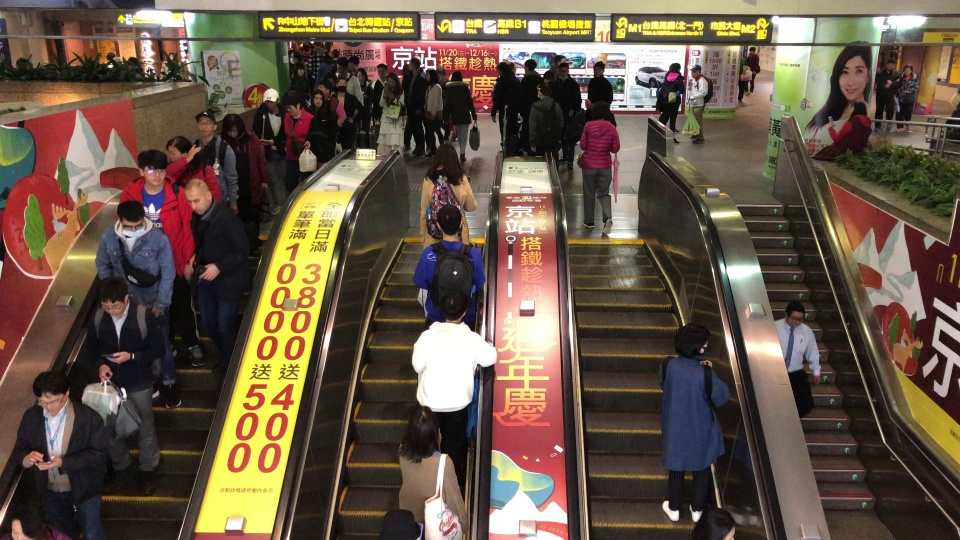person_head: (400, 406, 440, 456), (30, 369, 71, 417), (376, 504, 426, 540), (691, 506, 736, 539), (671, 321, 711, 358), (97, 274, 130, 316), (135, 148, 167, 187), (115, 199, 146, 236), (183, 177, 212, 214), (439, 289, 468, 326), (434, 204, 463, 237), (165, 135, 192, 164), (433, 142, 461, 166), (221, 111, 245, 137), (783, 299, 806, 326), (280, 90, 303, 116), (194, 110, 217, 136), (591, 100, 611, 121), (263, 87, 280, 110), (849, 101, 866, 117), (310, 89, 325, 107), (317, 80, 332, 97), (336, 56, 348, 77), (536, 83, 552, 98), (592, 59, 605, 76), (407, 57, 422, 71), (347, 54, 360, 70), (355, 66, 368, 82), (557, 61, 569, 78), (335, 76, 348, 91), (425, 68, 438, 83), (523, 58, 537, 71), (293, 61, 305, 76), (386, 71, 398, 86), (450, 69, 463, 82), (376, 63, 387, 78), (886, 57, 898, 70), (543, 70, 554, 83), (127, 56, 139, 67), (289, 52, 301, 63), (436, 65, 447, 77), (496, 61, 508, 72), (553, 54, 565, 65), (691, 64, 701, 77), (330, 48, 341, 59), (903, 62, 913, 74), (321, 55, 332, 65), (167, 51, 176, 63), (669, 62, 681, 71), (509, 61, 516, 75), (749, 45, 756, 54), (106, 52, 114, 59), (313, 40, 320, 48), (185, 50, 191, 59)
person_vbox: (116, 149, 206, 369), (94, 199, 183, 409), (84, 274, 167, 494), (410, 290, 497, 487), (16, 368, 108, 540), (182, 177, 252, 396), (657, 321, 729, 525), (397, 406, 470, 539), (415, 202, 486, 329), (219, 112, 268, 258), (258, 89, 320, 192), (419, 143, 478, 250), (772, 299, 821, 418), (578, 99, 620, 235), (193, 110, 240, 216), (250, 87, 284, 215), (165, 135, 222, 204), (811, 101, 871, 162), (553, 61, 583, 170), (527, 83, 564, 170), (445, 69, 477, 164), (373, 71, 404, 158), (399, 56, 425, 158), (331, 76, 365, 153), (489, 61, 520, 141), (657, 62, 685, 147), (518, 58, 541, 152), (874, 57, 902, 133), (305, 80, 348, 127), (893, 62, 920, 133), (423, 69, 444, 158), (686, 64, 708, 144), (354, 66, 373, 154), (334, 56, 364, 109), (307, 89, 337, 140), (585, 60, 614, 106), (434, 64, 450, 141), (370, 62, 387, 122), (306, 40, 325, 83), (543, 70, 563, 109), (744, 45, 759, 96), (158, 51, 183, 81), (312, 54, 333, 87), (292, 62, 309, 90), (180, 49, 191, 79)
